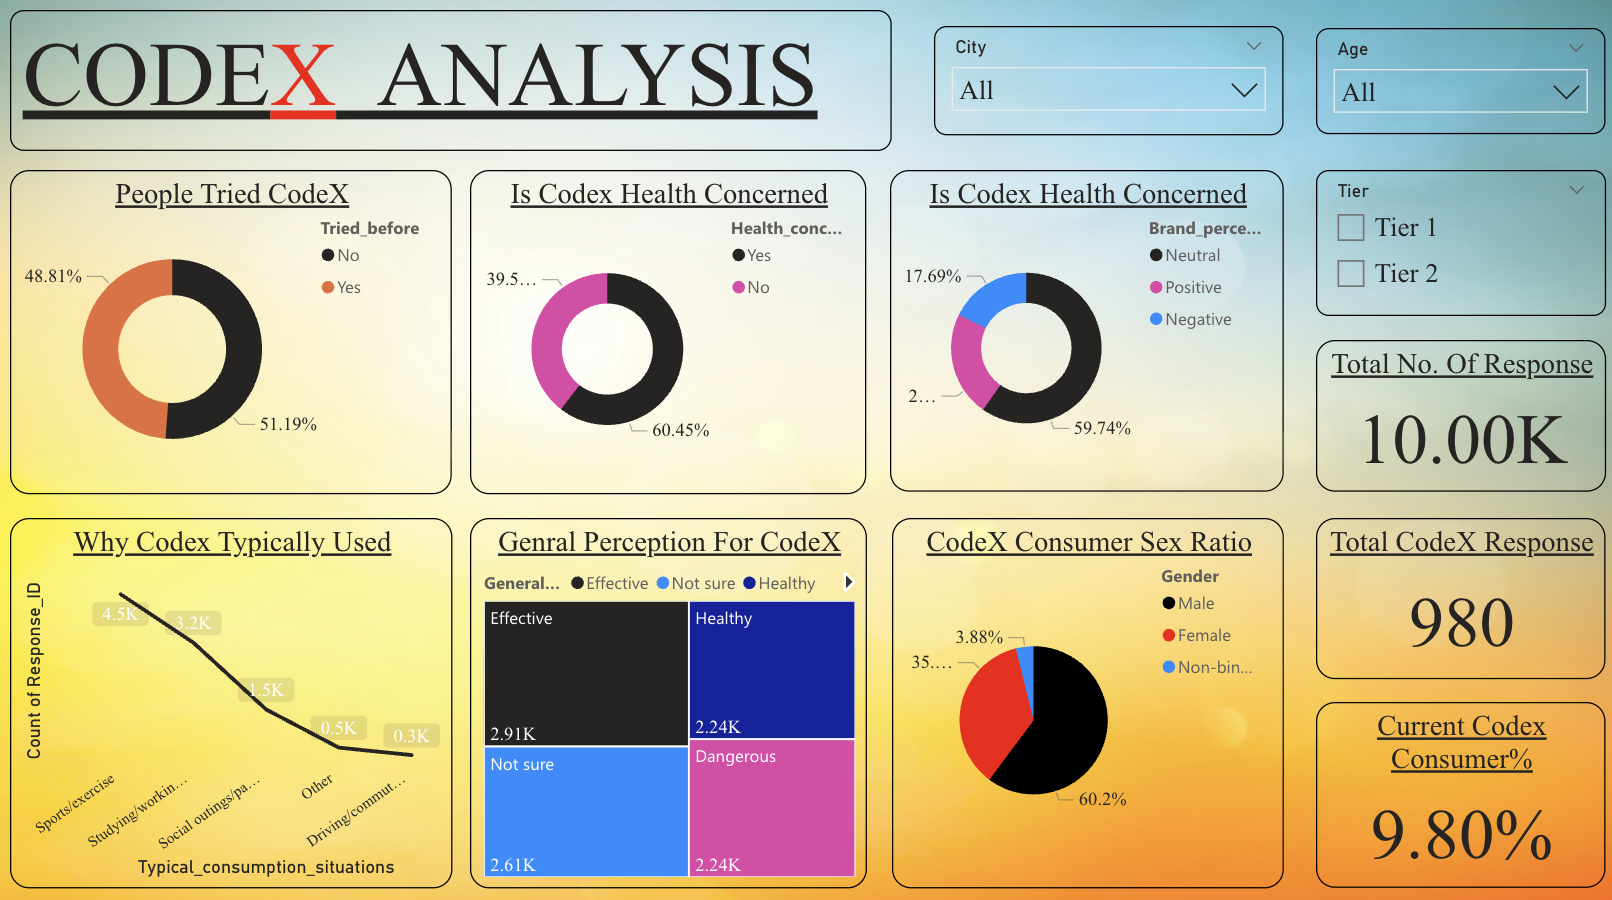

The page's visual inventory and layout, read from the dashboard file:
{"tool":"powerbi","page":{"name":"codex analysis","canvas":[1280,720],"ordinal":5},"visuals":[{"type":"textbox","box":[11.3,11.3,697.7,111.6],"z":0},{"type":"slicer","fields":{"Values":["dim_cities.City"]},"box":[742.5,23.7,276.3,86.3],"z":1000},{"type":"slicer","fields":{"Values":["dim_repondents.Age"]},"box":[1044.7,25.9,228.8,84.2],"z":2000},{"type":"slicer","fields":{"Values":["dim_cities.Tier"]},"box":[1044.7,148.9,228.8,105.8],"z":3000},{"type":"card","title":"Total CodeX Response","fields":{"Values":["CountNonNull(fact_survey_responses.Respondent_ID)"]},"box":[1044.7,412.3,228.8,127.4],"z":4000},{"type":"card","title":"Current Codex Consumer%","fields":{"Values":["fact_survey_responses.%codex"]},"box":[1044.7,559.1,228.8,146.8],"z":5000},{"type":"treemap","title":"Genral Perception For CodeX","fields":{"Group":["fact_survey_responses.General_perception"],"Values":["CountNonNull(fact_survey_responses.Response_ID)"]},"box":[374.4,412.2,313.9,293.1],"z":6000},{"type":"donutChart","title":"People Tried CodeX ","fields":{"Category":["fact_survey_responses.Tried_before"],"Y":["CountNonNull(fact_survey_responses.Response_ID)"]},"box":[11.3,149.4,349.8,243.9],"z":7000},{"type":"card","title":"Total No. Of Response","fields":{"Values":["CountNonNull(fact_survey_responses.Respondent_ID)"]},"box":[1044.7,272,228.8,120.9],"z":8000},{"type":"donutChart","title":"Is Codex Health Concerned","fields":{"Y":["CountNonNull(fact_survey_responses.Response_ID)"],"Category":["fact_survey_responses.Health_concerns"]},"box":[374.4,149.4,313.9,243.9],"z":9000},{"type":"lineChart","title":"Why Codex Typically Used","fields":{"Category":["fact_survey_responses.Typical_consumption_situations"],"Y":["CountNonNull(fact_survey_responses.Response_ID)"]},"box":[11.3,412.2,349.8,293.1],"z":10000},{"type":"donutChart","title":"Is Codex Health Concerned","fields":{"Y":["CountNonNull(fact_survey_responses.Response_ID)"],"Category":["fact_survey_responses.Brand_perception"]},"box":[708,148.9,310.8,243.9],"z":11000},{"type":"pieChart","title":"CodeX Consumer Sex Ratio","fields":{"Y":["CountNonNull(fact_survey_responses.Response_ID)"],"Category":["dim_repondents.Gender"]},"box":[709,412.2,310.1,293.1],"z":12000}]}

Visuals, with their boxes in screenshot pixels (x1, y1, x2, y2), scaled from the page's 1280x720 canvas onto the 1612x900 screenshot:
textbox: <bbox>14, 14, 893, 154</bbox>
slicer - dim_cities.City: <bbox>935, 30, 1283, 138</bbox>
slicer - dim_repondents.Age: <bbox>1316, 32, 1604, 138</bbox>
slicer - dim_cities.Tier: <bbox>1316, 186, 1604, 318</bbox>
"Total CodeX Response" card: <bbox>1316, 515, 1604, 675</bbox>
"Current Codex Consumer%" card: <bbox>1316, 699, 1604, 882</bbox>
"Genral Perception For CodeX" treemap: <bbox>472, 515, 867, 882</bbox>
"People Tried CodeX " donutChart: <bbox>14, 187, 455, 492</bbox>
"Total No. Of Response" card: <bbox>1316, 340, 1604, 491</bbox>
"Is Codex Health Concerned" donutChart: <bbox>472, 187, 867, 492</bbox>
"Why Codex Typically Used" lineChart: <bbox>14, 515, 455, 882</bbox>
"Is Codex Health Concerned" donutChart: <bbox>892, 186, 1283, 491</bbox>
"CodeX Consumer Sex Ratio" pieChart: <bbox>893, 515, 1283, 882</bbox>
